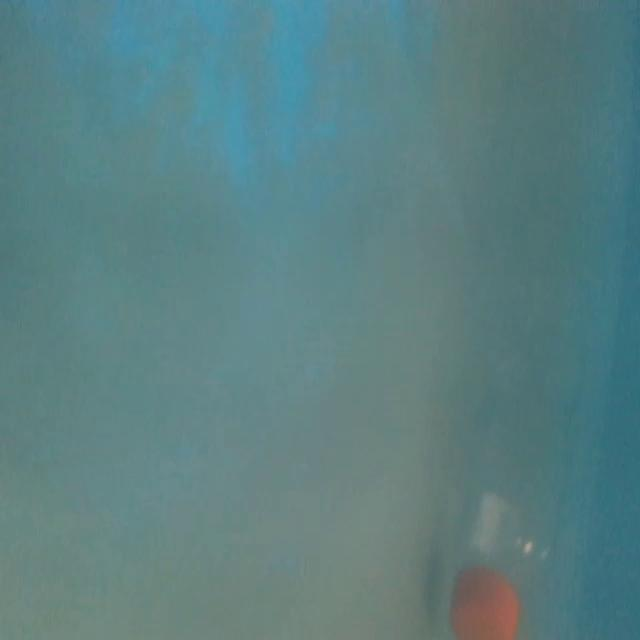plastic bottle: (445, 304, 577, 640)
